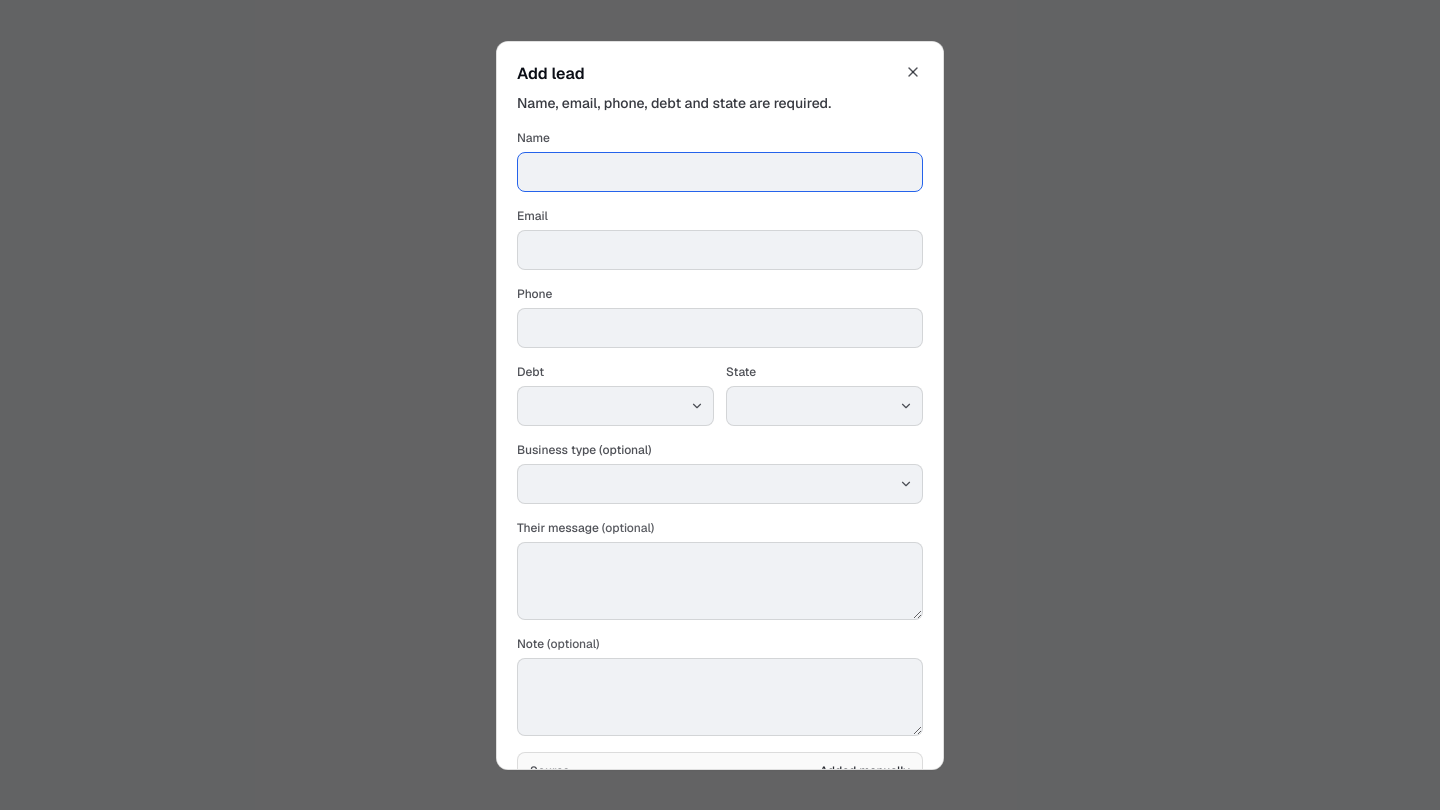
Test: AddLeadDialog — re-reading the list › does not refresh when the save fails
Type "Test Person" into the field labelled "Name" at (720, 172), box [517, 152, 923, 192]
Type "test.person@example.test" into the field labelled "Email" at (720, 250), box [517, 230, 923, 270]
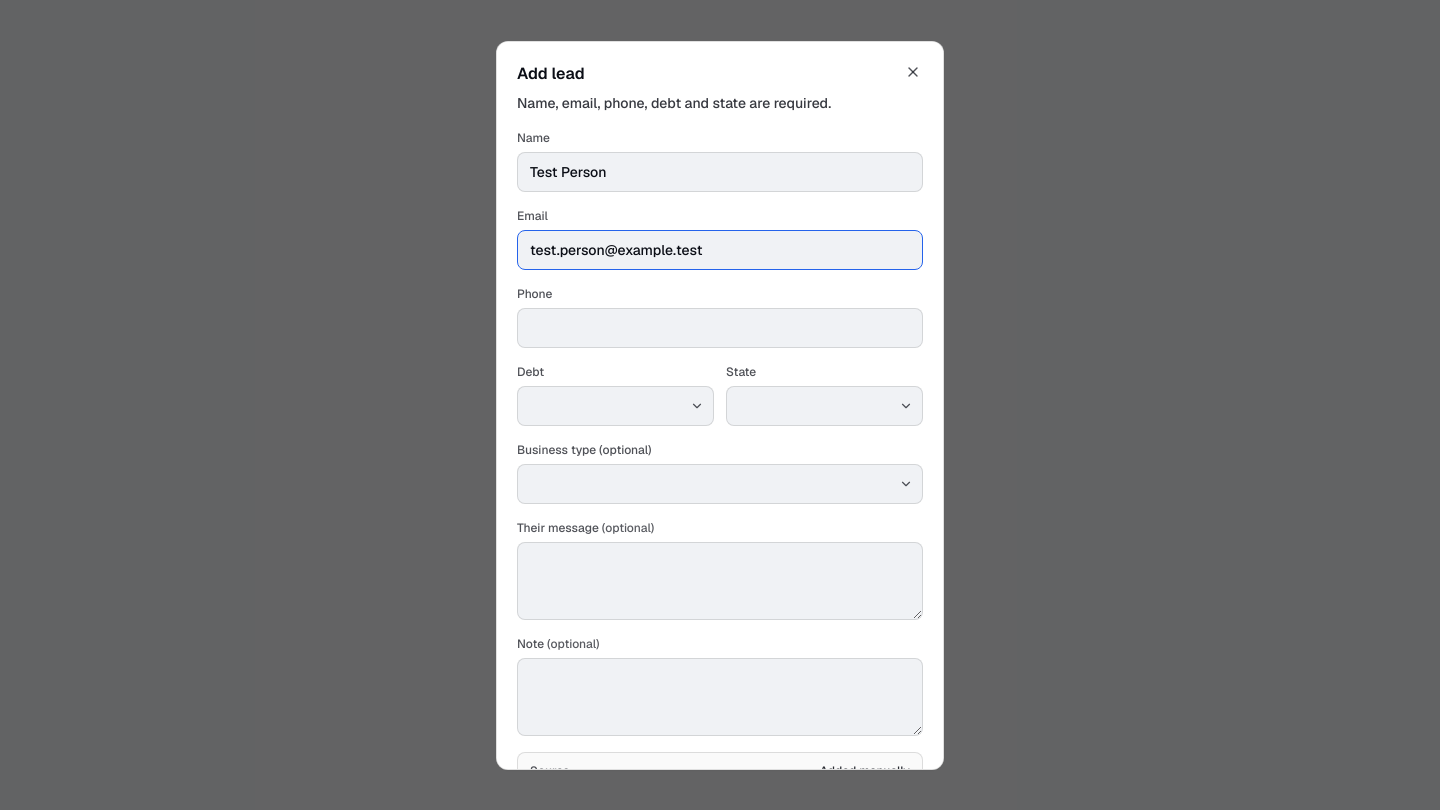
Type "0400 000 001" into the field labelled "Phone" at (720, 328), box [517, 308, 923, 348]
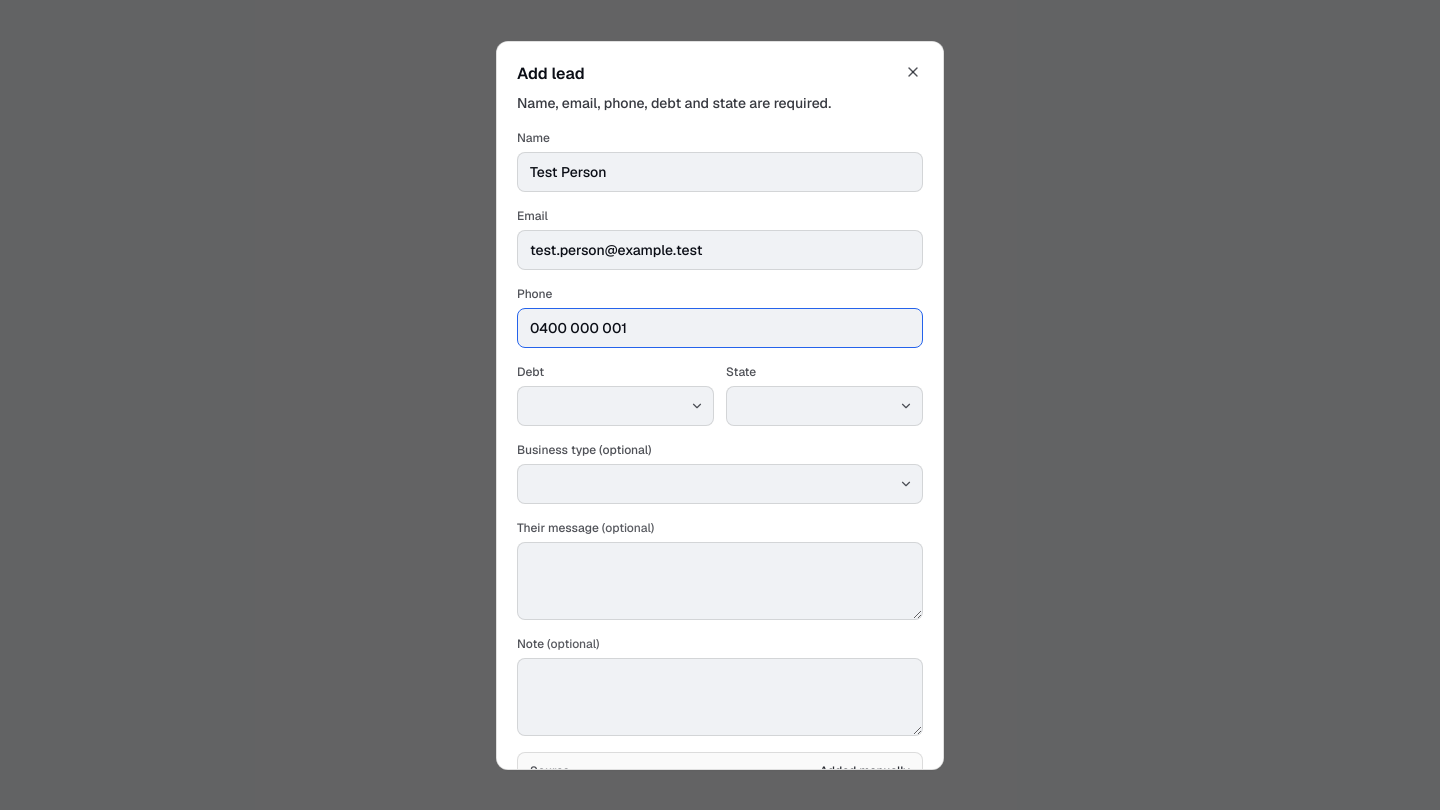
Select "$150k – $250k" in the dropdown labelled "Debt" at (616, 406), box [517, 386, 714, 426]
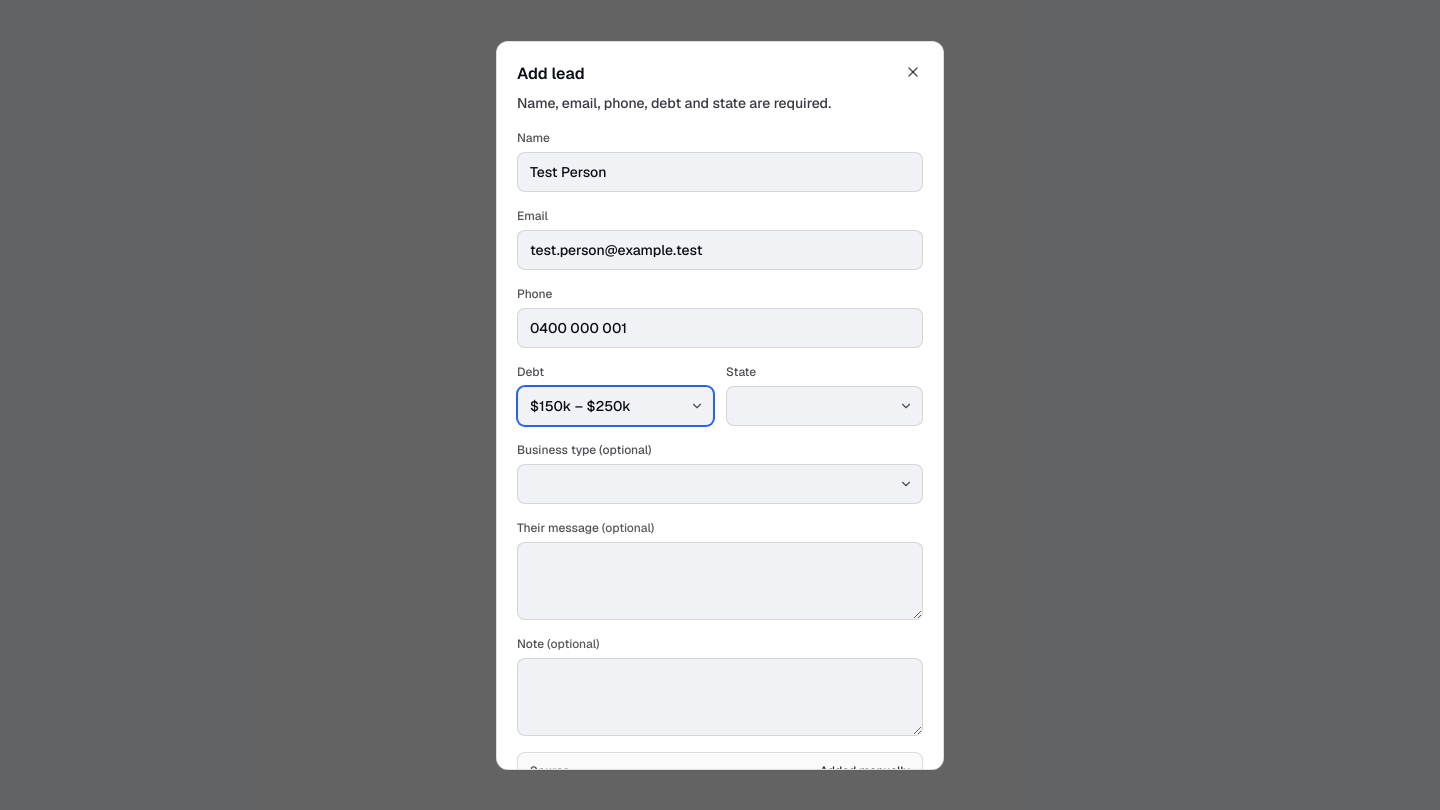
Click the button named "State" at (824, 406), box [726, 386, 923, 426]
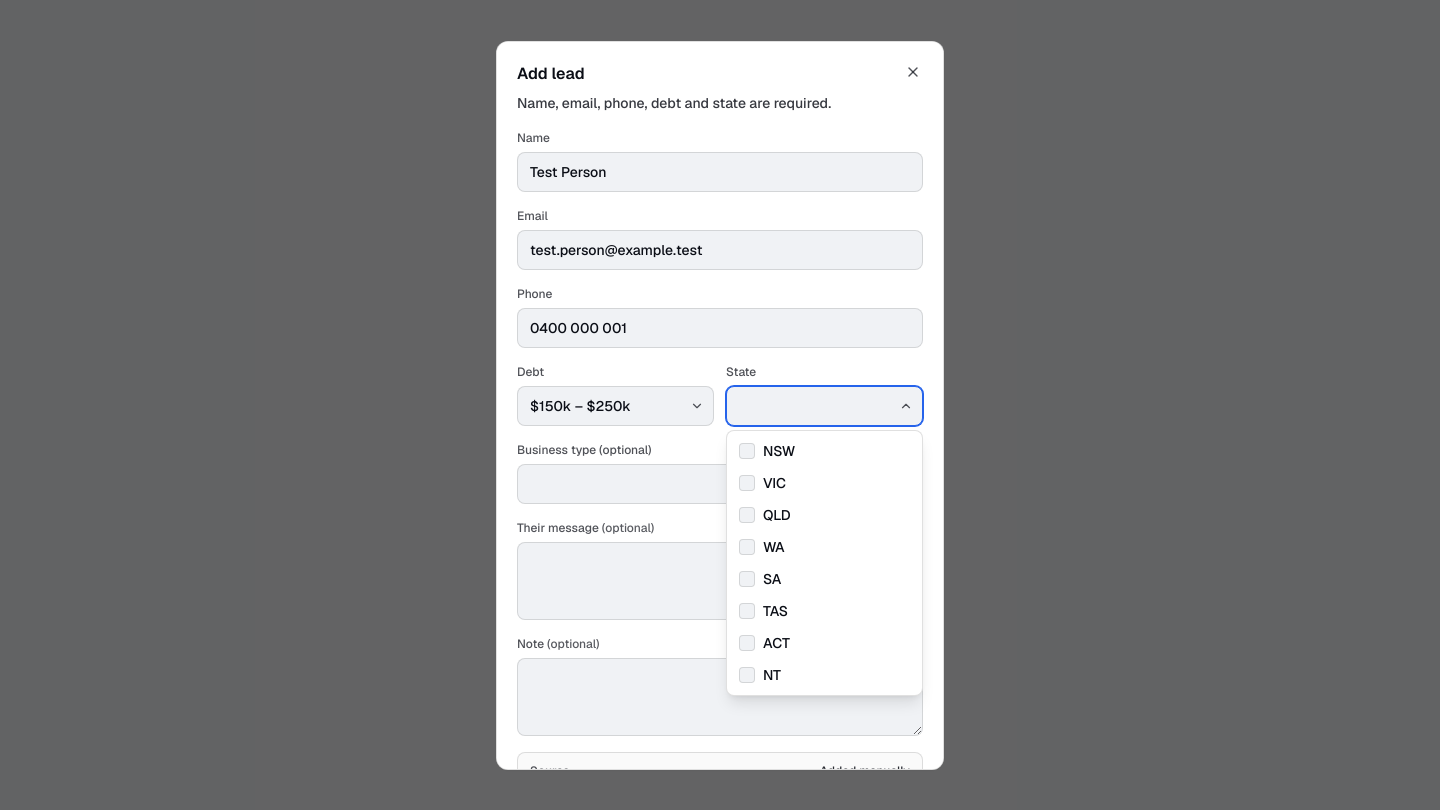
Click the checkbox labelled "NSW" at (767, 451), box [739, 442, 795, 460]
(page scrolled)
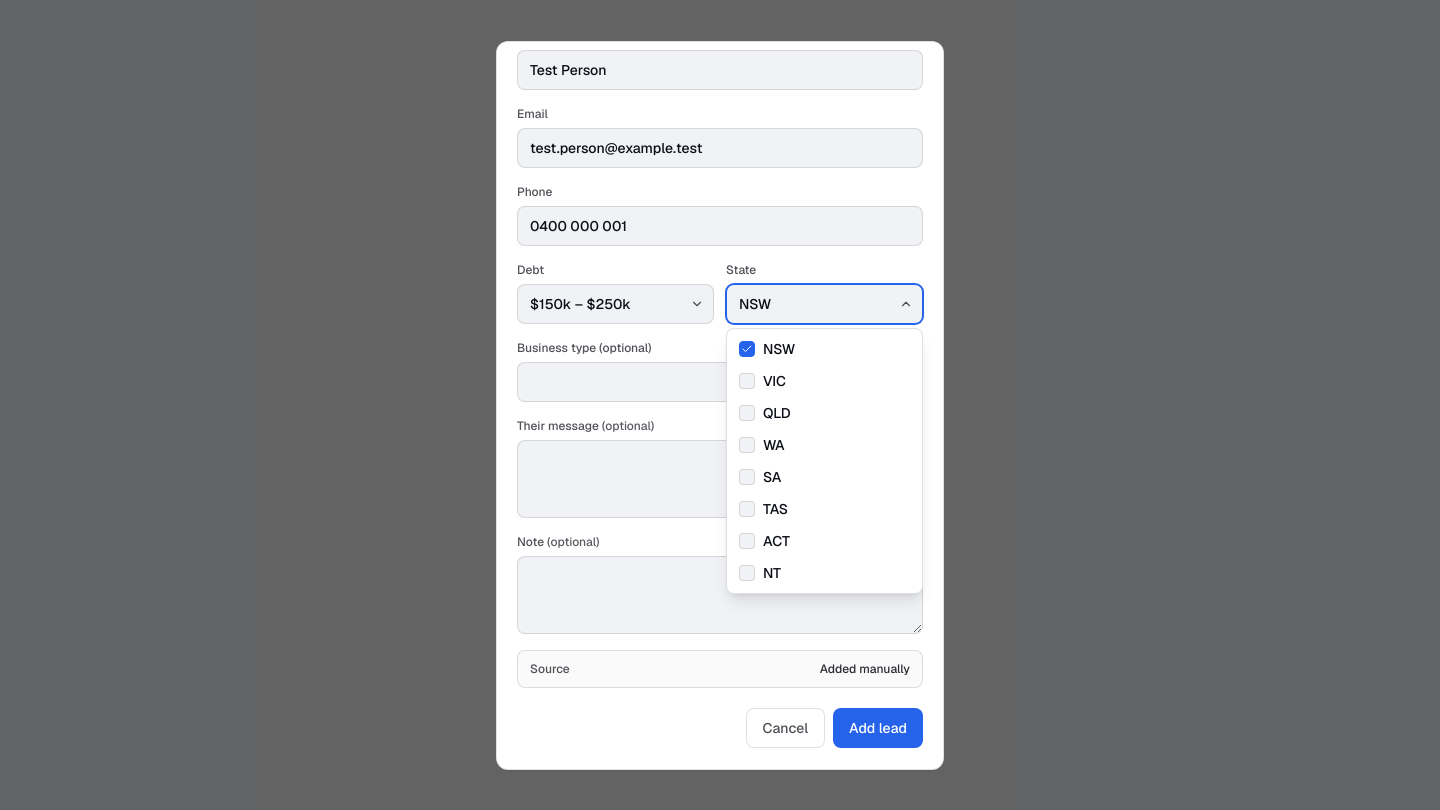
Click the button "Add lead" at (878, 728), box [833, 708, 923, 748]
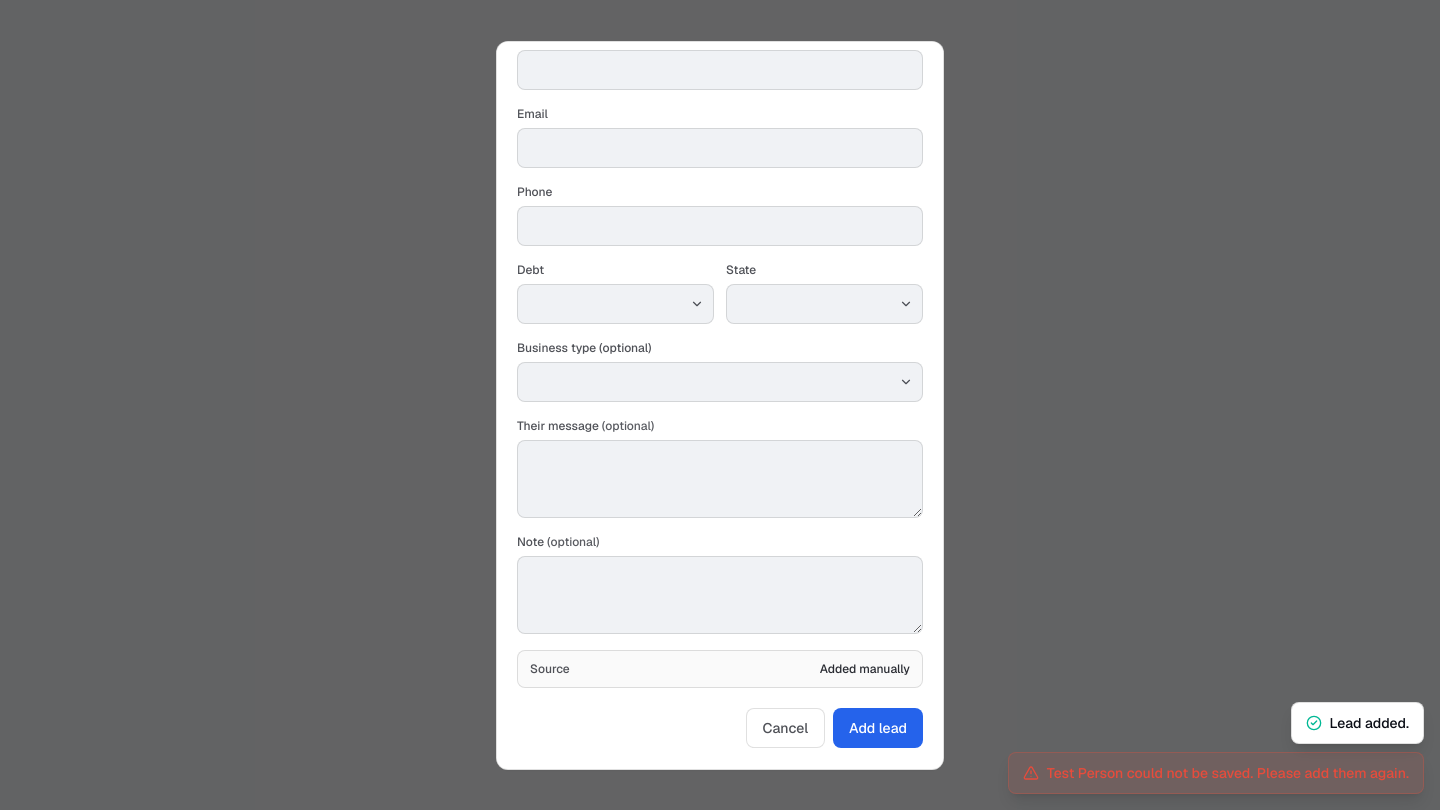
Now the text "Test Person could not be saved. Please add them again." is shown, box [1047, 763, 1409, 783]
